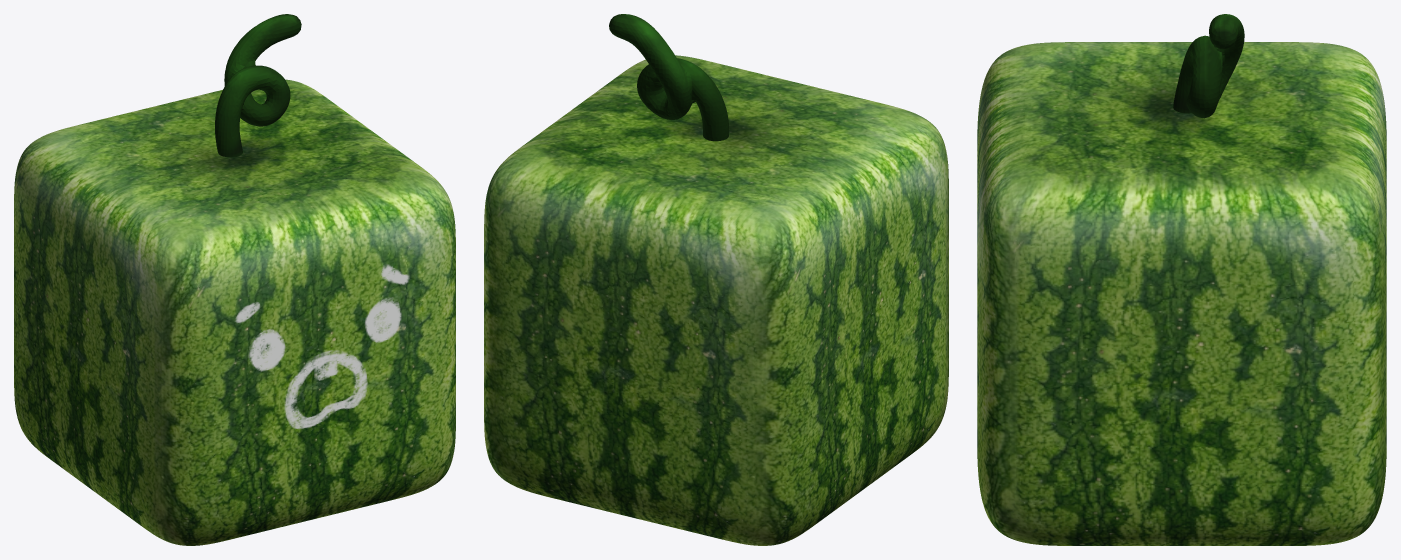
The model's file is Watermelon.glb.
3 renders of one model, left to right at view 1: azimuth 30°, elevation 25°; view 2: azimuth 150°, elevation 25°; view 3: azimuth 270°, elevation 25°, orthographic. The views are drawn at different scales.
Parts seen in each view (by area): view 1: 상자_1_상자, 튜브_튜브; view 2: 상자_1_상자, 튜브_튜브; view 3: 상자_1_상자, 튜브_튜브.
Boxes of the visible parts, left/top/right/bottom form: 상자_1_상자: left=14, top=79, right=455, bottom=545; 튜브_튜브: left=215, top=14, right=301, bottom=157; 상자_1_상자: left=484, top=55, right=948, bottom=545; 튜브_튜브: left=609, top=14, right=728, bottom=141; 상자_1_상자: left=977, top=42, right=1386, bottom=545; 튜브_튜브: left=1173, top=14, right=1244, bottom=118.
Bounding box in the file's own units: 1 × 1.34 × 1.
Materials: 2 (1 with a texture image).
